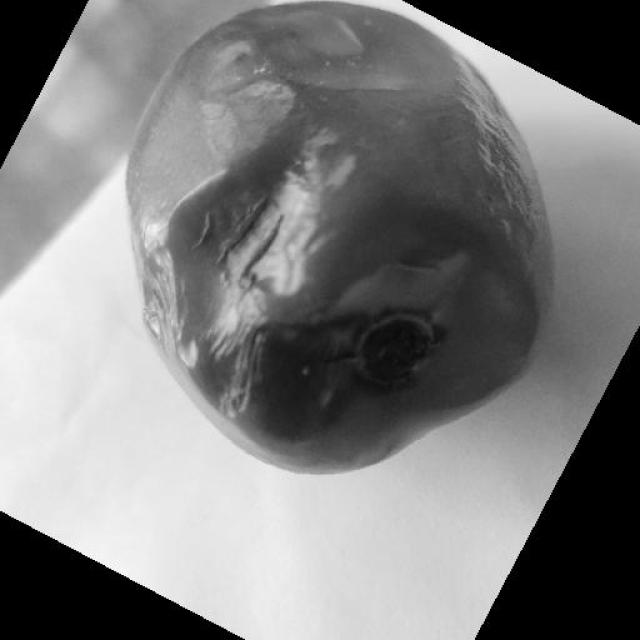Stale_tomato: (123, 59, 590, 503)
